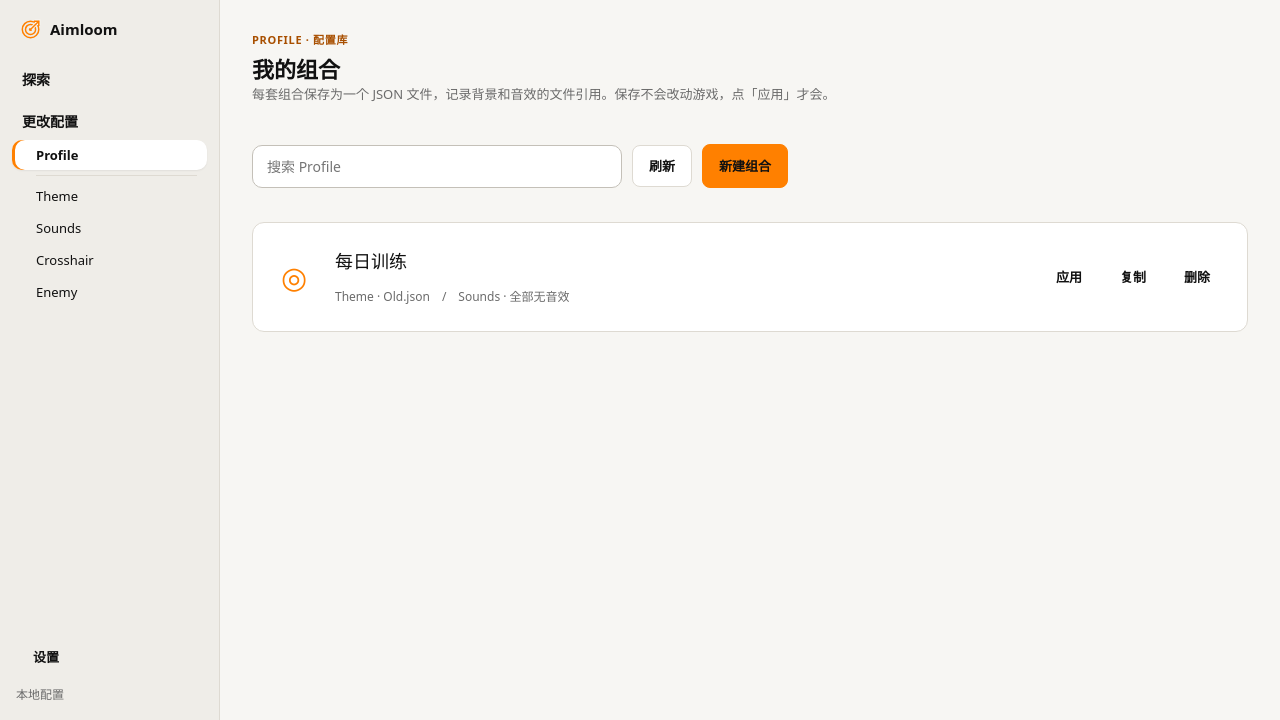
Scenario: a resource sheet shows what the game already has › falls back to browsing a folder when the game's list cannot be read
Click the button with aria-label "编辑 每日训练" at (371, 261), box [333,245,1021,309]
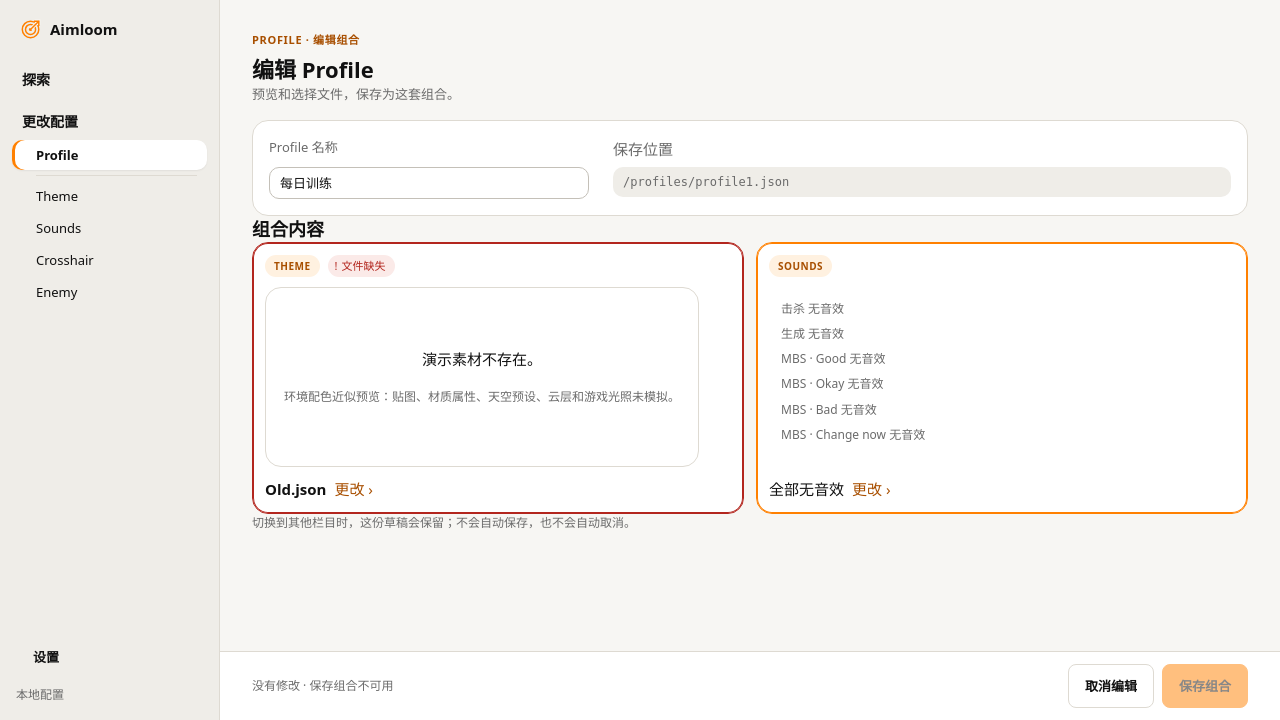
Click the button with aria-label "Theme 背景与环境：Old.json" at (498, 378), box [252,242,744,514]
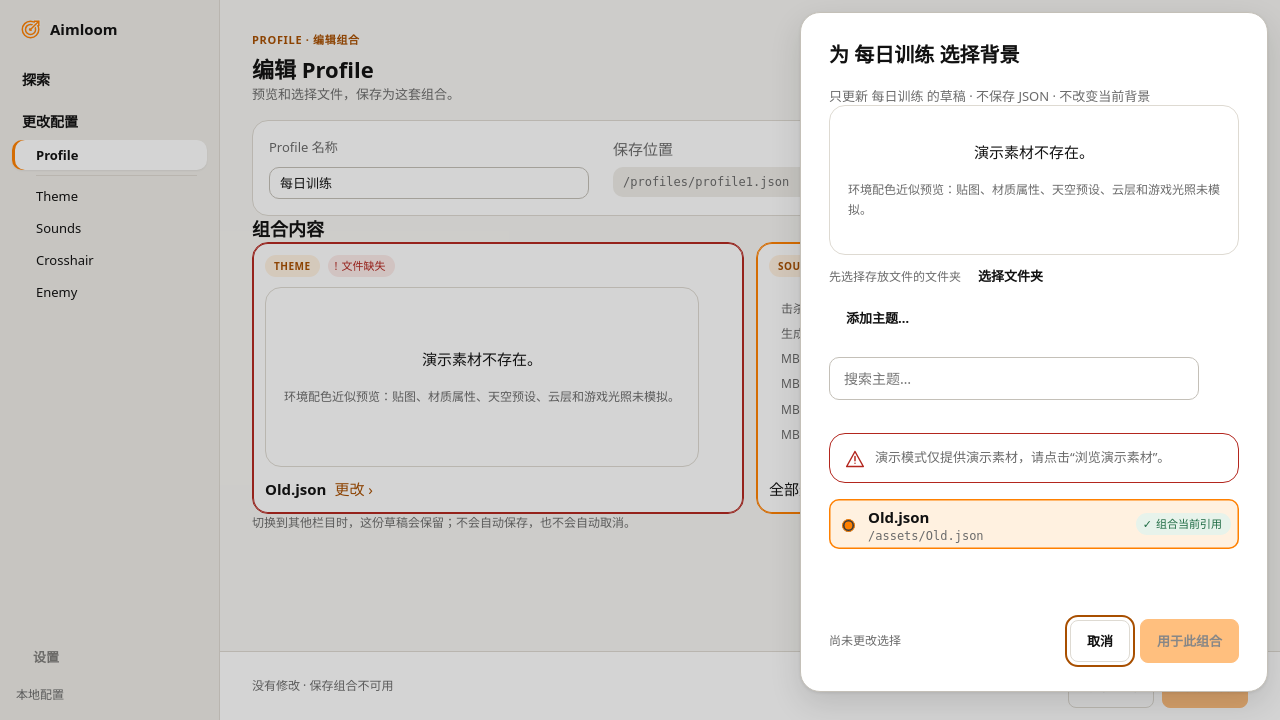
Result: the search field is shown at [829,356,1199,400]
